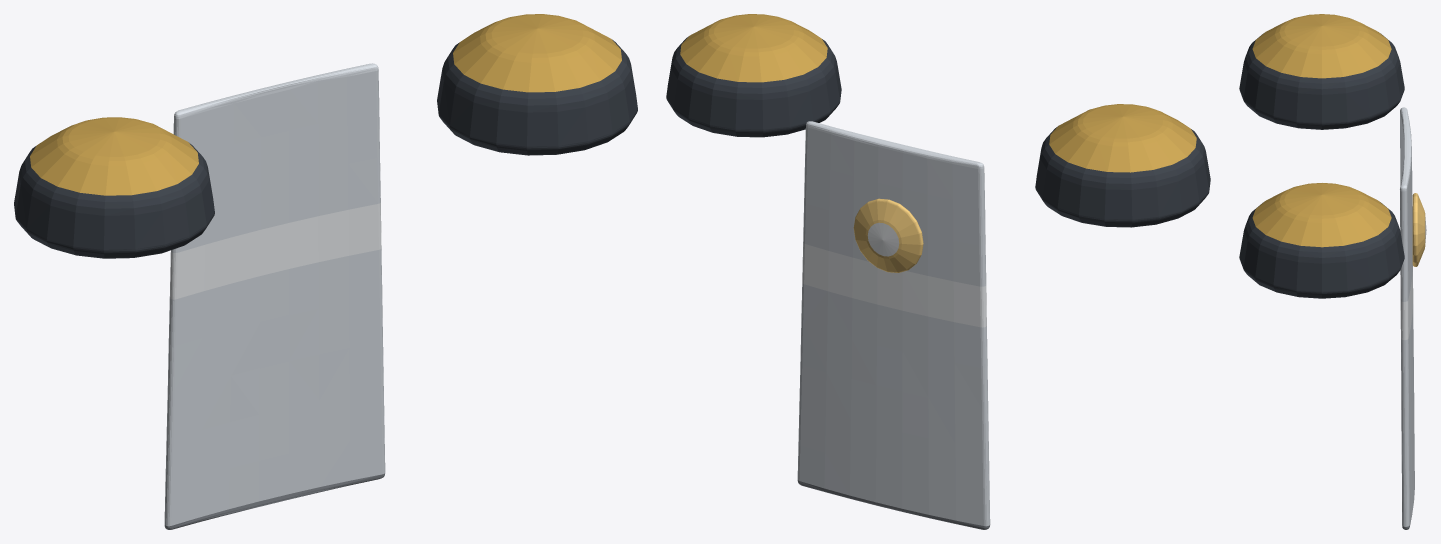
File: Tabard.obj
3 renders of one model, left to right at view 1: azimuth 30°, elevation 25°; view 2: azimuth 150°, elevation 25°; view 3: azimuth 270°, elevation 25°, orthographic. The views are drawn at different scales.
Size of the model in its own units: 3.68 by 2.71 by 1.22.
